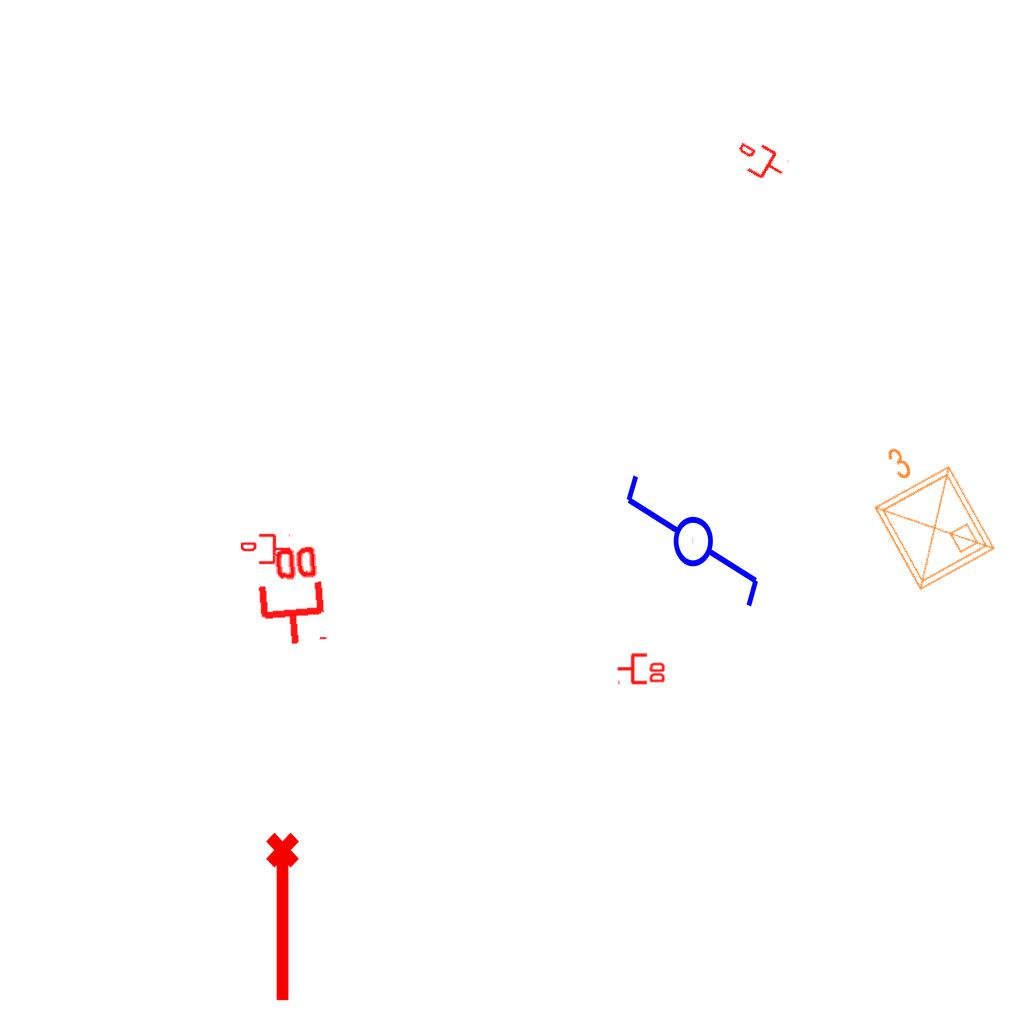ASR_Ansaugoeffnung: (262, 830, 308, 1006)
Datenanschluss_einfach: (730, 133, 792, 189), (241, 532, 291, 566)
Datenanschluss_zweifach: (250, 541, 329, 650), (616, 651, 667, 685)
Einbaudownlights_LED_Konferenzraeume: (841, 420, 1005, 602)
Wechselschalter: (619, 471, 763, 628)
